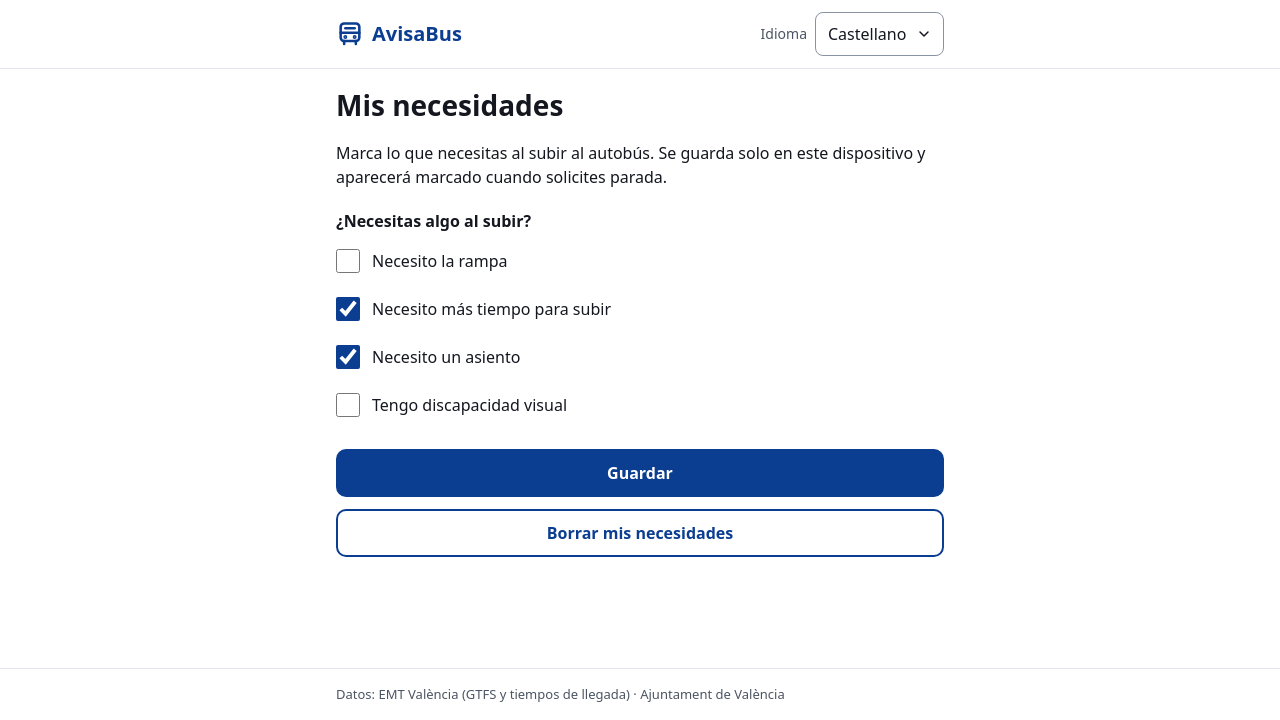
Test case: NeedsPage › [passenger_alert_ui.AC-02] "Borrar mis necesidades" removes the profile, unchecks every need and announces it (es)
Click the button "Borrar mis necesidades". click: (640, 533)
box: [336,509,944,557]
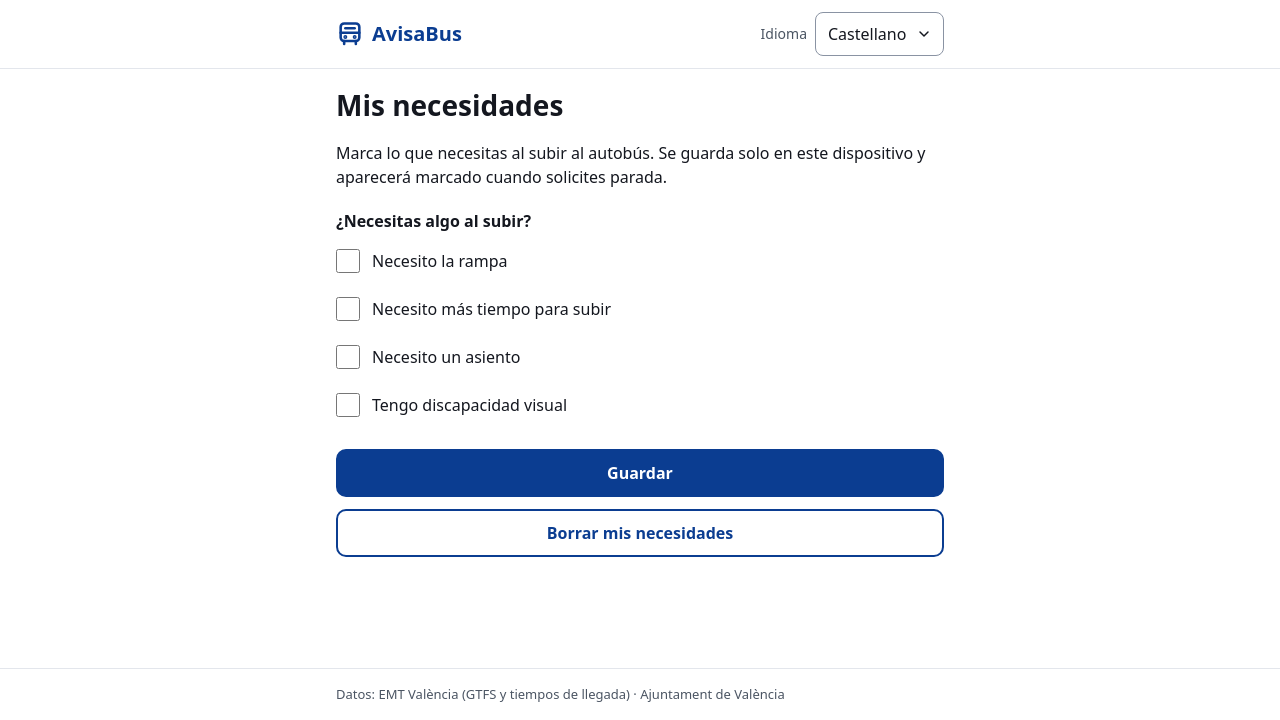
Check: the checkbox labelled "Necesito la rampa" is not checked, box [336,249,360,273]
Check: the checkbox labelled "Necesito más tiempo para subir" is not checked, box [336,297,360,321]
Check: the checkbox labelled "Necesito un asiento" is not checked, box [336,345,360,369]
